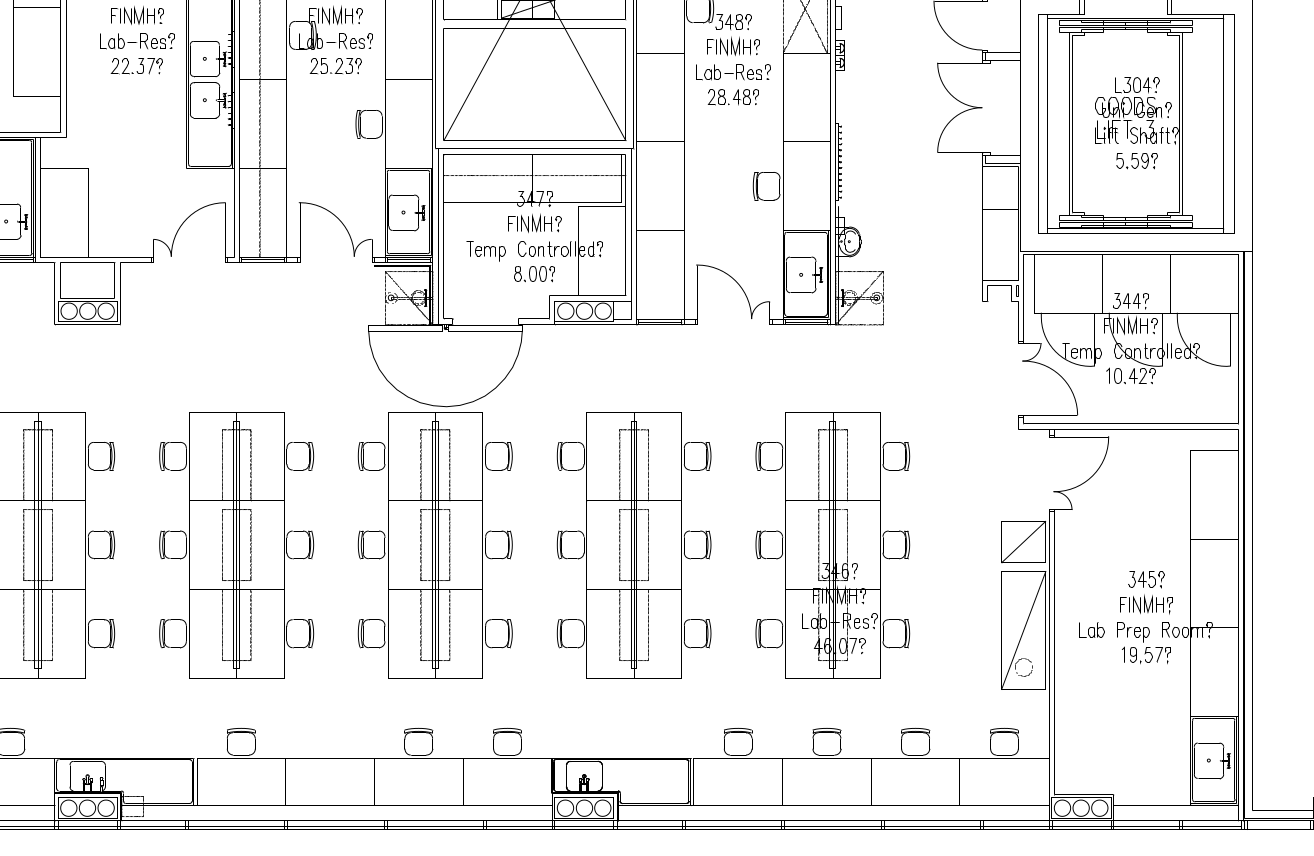door: (910, 58, 985, 162), (442, 323, 528, 410), (358, 325, 444, 412), (293, 191, 354, 271), (170, 185, 231, 265), (690, 256, 751, 328), (1012, 363, 1086, 419), (1043, 434, 1117, 490), (915, 1, 989, 56), (1171, 310, 1233, 375), (1037, 489, 1082, 511), (354, 233, 374, 277), (151, 228, 171, 272)
